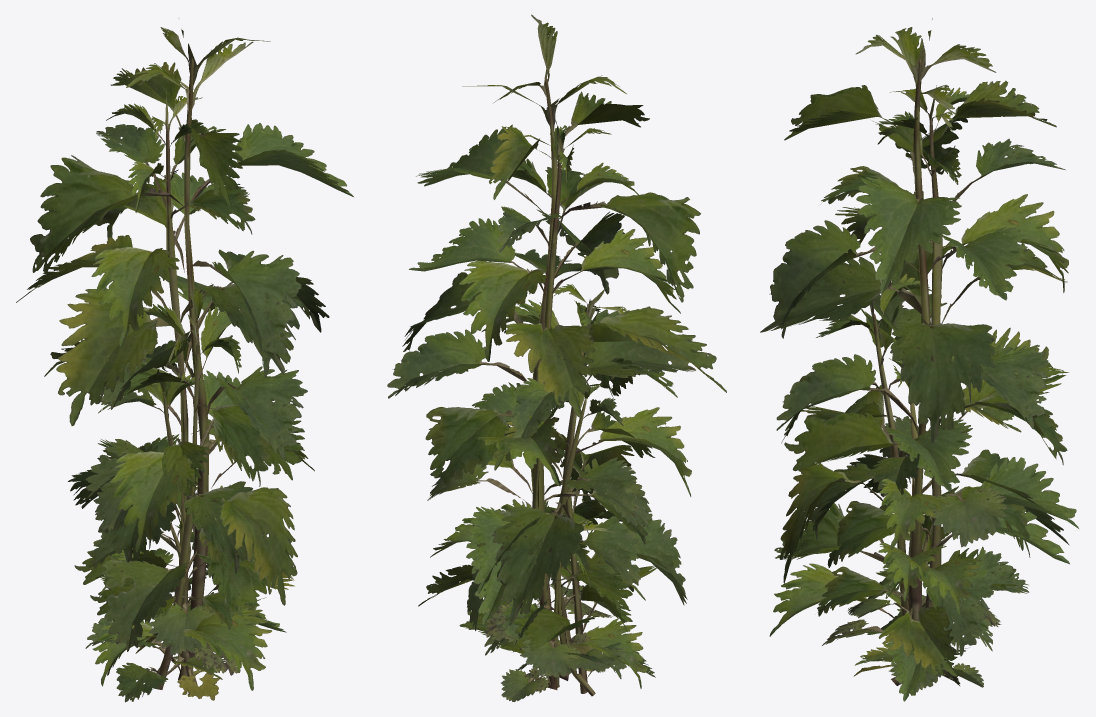
File: nettle_plant.glb
3 renders of one model, left to right at view 1: azimuth 30°, elevation 25°; view 2: azimuth 150°, elevation 25°; view 3: azimuth 270°, elevation 25°, orthographic. The views are drawn at different scales.
Parts seen in each view (by area): view 1: plant_4, plant_0, plant_5, plant_1, plant_2, plant_3; view 2: plant_4, plant_5, plant_0, plant_1, plant_2, plant_3; view 3: plant_4, plant_5, plant_0, plant_1, plant_2, plant_3.
Boxes of the visible parts, box(x1,y1,x2,y2) form: plant_4: box(30, 27, 353, 680); plant_0: box(68, 285, 297, 702); plant_5: box(16, 91, 304, 684); plant_1: box(88, 368, 259, 673); plant_2: box(92, 508, 286, 700); plant_3: box(85, 592, 266, 679); plant_4: box(402, 14, 726, 689); plant_5: box(387, 120, 695, 680); plant_0: box(428, 284, 691, 693); plant_1: box(471, 384, 655, 696); plant_2: box(466, 498, 647, 695); plant_3: box(459, 610, 626, 701); plant_4: box(769, 18, 1069, 676); plant_5: box(760, 85, 1078, 685); plant_0: box(769, 273, 1069, 692); plant_1: box(809, 358, 1030, 662); plant_2: box(848, 514, 992, 701); plant_3: box(855, 595, 983, 687).
Bounding box in the file's own units: 0.1031 × 0.2168 × 0.0947.
1 material, 1 textured.
